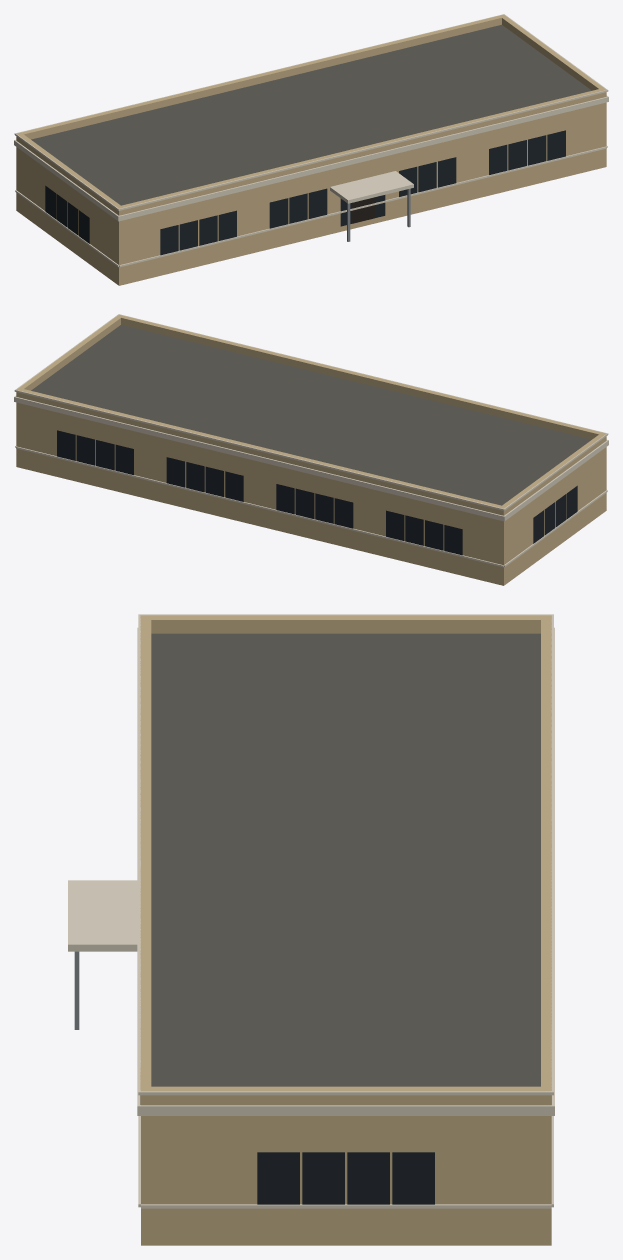
File: kelly-hall.glb
3 views of the same model, one above another, from view 1: azimuth 30°, elevation 25°; view 2: azimuth 150°, elevation 25°; view 3: azimuth 270°, elevation 25° (orthographic). The views are drawn at different scales.
Visible parts, largest first — view 1: kit-kelly-hall; view 2: kit-kelly-hall; view 3: kit-kelly-hall.
Part boxes in pixels (left/top/right/bottom): kit-kelly-hall: left=14, top=14, right=608, bottom=285; kit-kelly-hall: left=14, top=314, right=608, bottom=585; kit-kelly-hall: left=68, top=614, right=554, bottom=1245.
Bounding box in the file's own units: 37.24 × 5.6 × 16.02.
